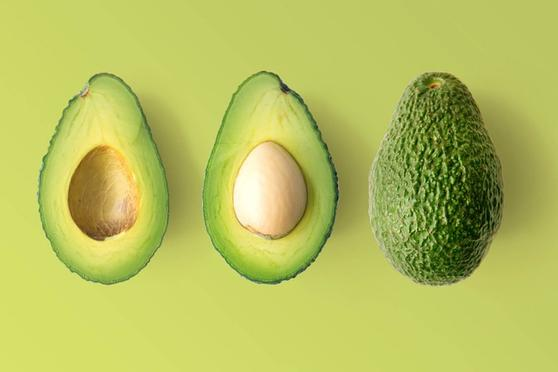avocado: (365, 70, 505, 288)
